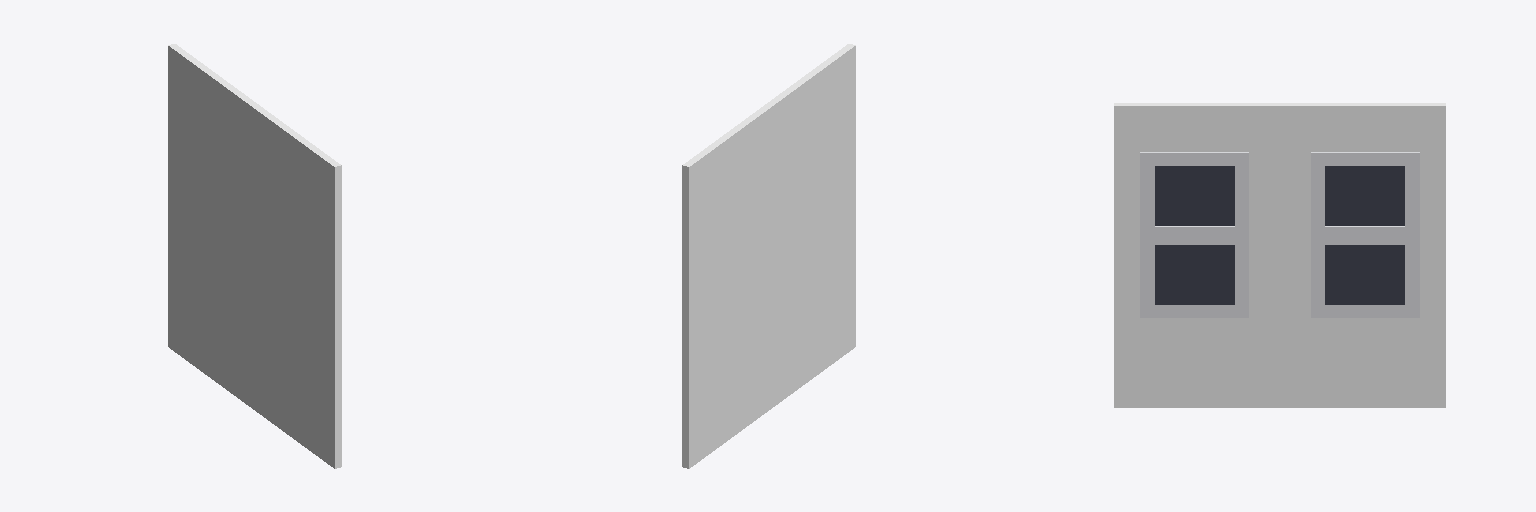
Rendered from window1x0.1x4.obj.
3 renders of one model, left to right at view 1: azimuth 30°, elevation 25°; view 2: azimuth 150°, elevation 25°; view 3: azimuth 270°, elevation 25°, orthographic.
Size of the model in its own units: 0.13 by 4 by 4.